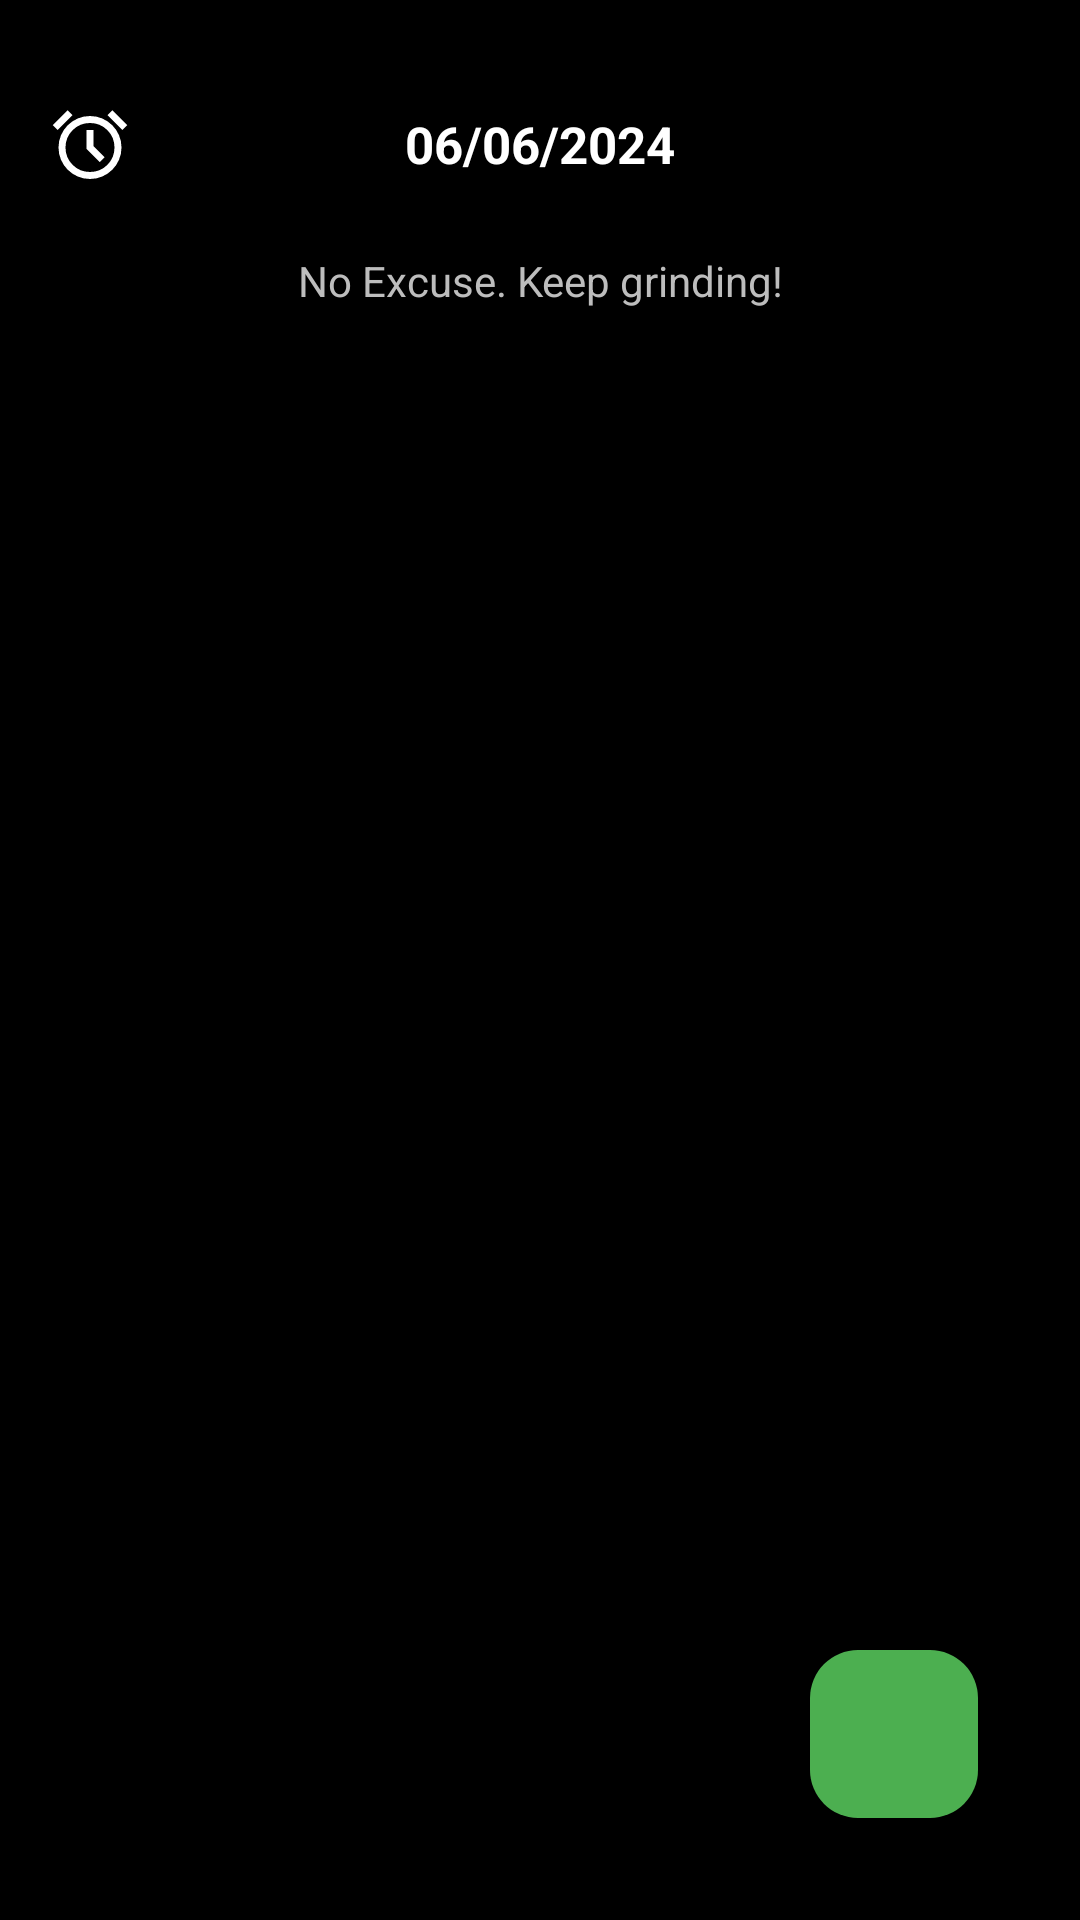

Icons on this 1080px x 1920px Android screen, each with the point to tap as (x=x, y=y):
alarm: (x=90, y=144)
